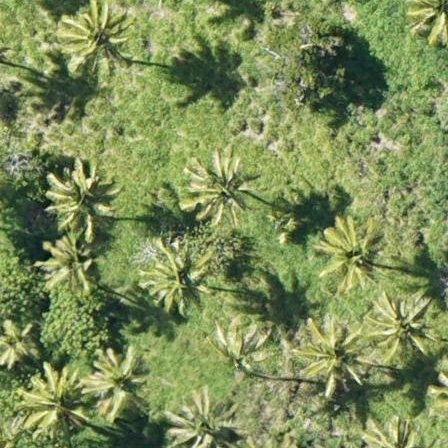palm_tree: (39, 153, 119, 239), (138, 236, 217, 320), (312, 211, 386, 290), (183, 146, 255, 223), (60, 1, 132, 68), (294, 323, 362, 389), (16, 370, 85, 433), (370, 294, 433, 361), (166, 392, 239, 448), (82, 353, 146, 414), (210, 324, 269, 380), (46, 237, 96, 293), (1, 319, 42, 366)
